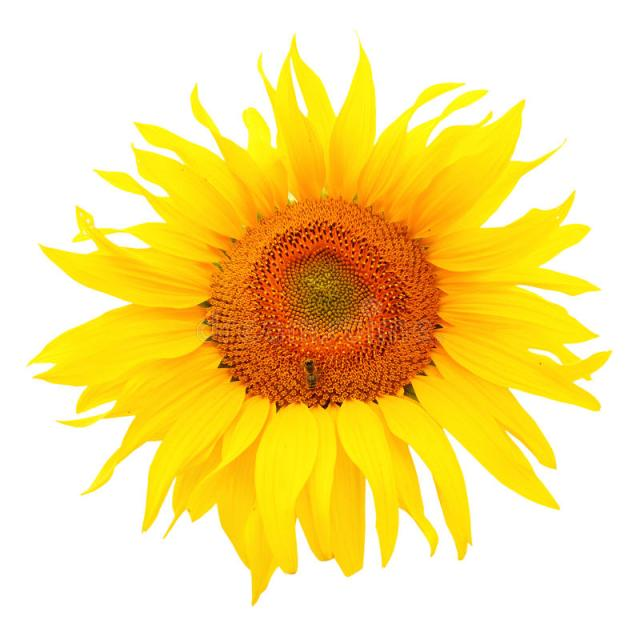sunflower: (35, 37, 618, 608)
